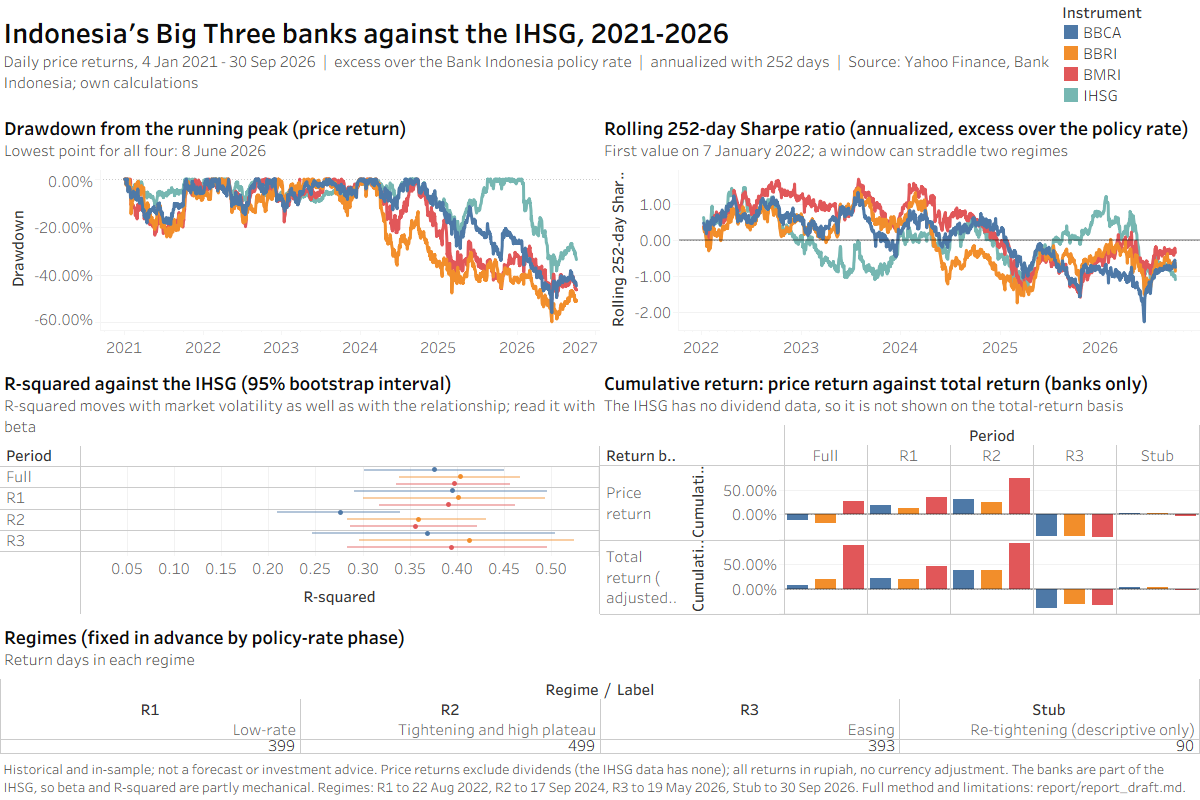

This screenshot's page, from the dashboard's own definition file:
{"tool":"tableau","page":{"name":"Detail","canvas":[1200,800],"ordinal":0},"visuals":[{"type":"text","box":[6,4,1044,106.4]},{"type":"legend","title":"S6 Drawdown","param":"[federated.daily].[none:ticker:nk]","box":[1056,4,138,108]},{"type":"worksheet","title":"S6 Drawdown","mark":"Line","rows":["drawdown_pct"],"cols":["trade_date"],"box":[6,112,594,248]},{"type":"worksheet","title":"S7 Rolling Sharpe","mark":"Line","rows":["rolling_sharpe_252"],"cols":["trade_date"],"box":[600,112,594,248]},{"type":"worksheet","title":"S8 R-squared","mark":"Automatic","rows":["period","ticker"],"cols":["r2_ci_low","r2"],"box":[6,364,594,248]},{"type":"worksheet","title":"S9 Price vs total return","mark":"Bar","rows":["basis","cum_return_pct"],"cols":["period","ticker"],"box":[600,364,594,248]},{"type":"worksheet","title":"S10 Regimes","mark":"Text","cols":["regime","label"],"box":[6,616,1188,134.4]},{"type":"text","box":[6,752,1188,44]}]}

Visuals, with their boxes in screenshot pixels (x1, y1, x2, y2), scaled from the page's 1200x800 canvas onto the 1200x800 screenshot:
text: <region>6, 4, 1050, 110</region>
"S6 Drawdown" legend: <region>1056, 4, 1194, 112</region>
"S6 Drawdown" worksheet (Line marks): <region>6, 112, 600, 360</region>
"S7 Rolling Sharpe" worksheet (Line marks): <region>600, 112, 1194, 360</region>
"S8 R-squared" worksheet: <region>6, 364, 600, 612</region>
"S9 Price vs total return" worksheet (Bar marks): <region>600, 364, 1194, 612</region>
"S10 Regimes" worksheet (Text marks): <region>6, 616, 1194, 750</region>
text: <region>6, 752, 1194, 796</region>
